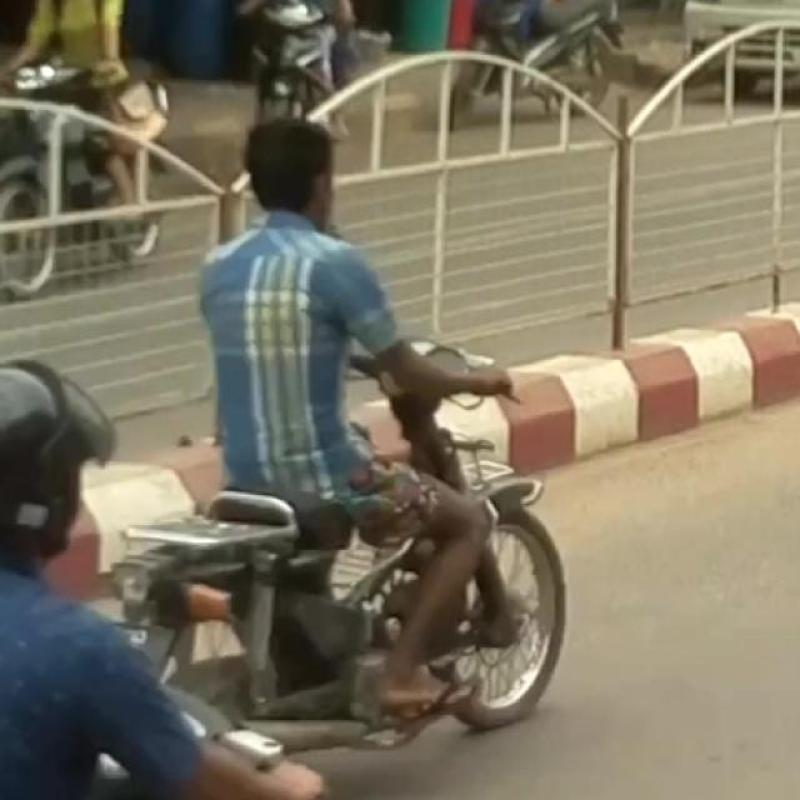nohelmet: (220, 98, 380, 233)
